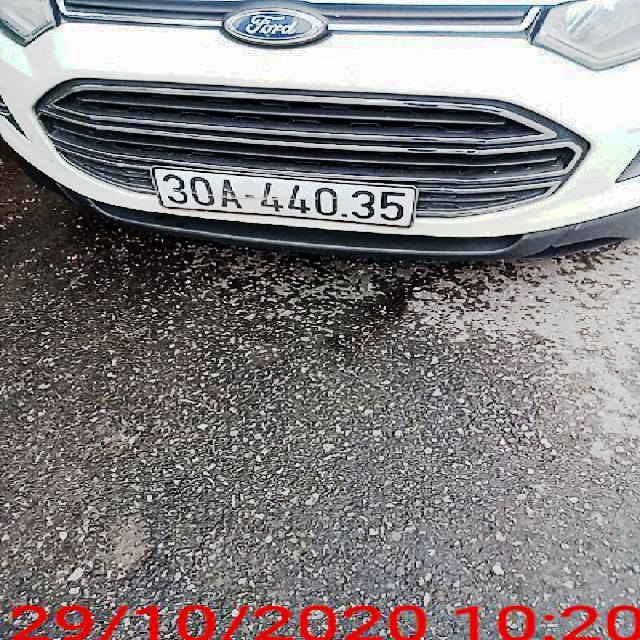license_plate: (157, 165, 420, 228)
